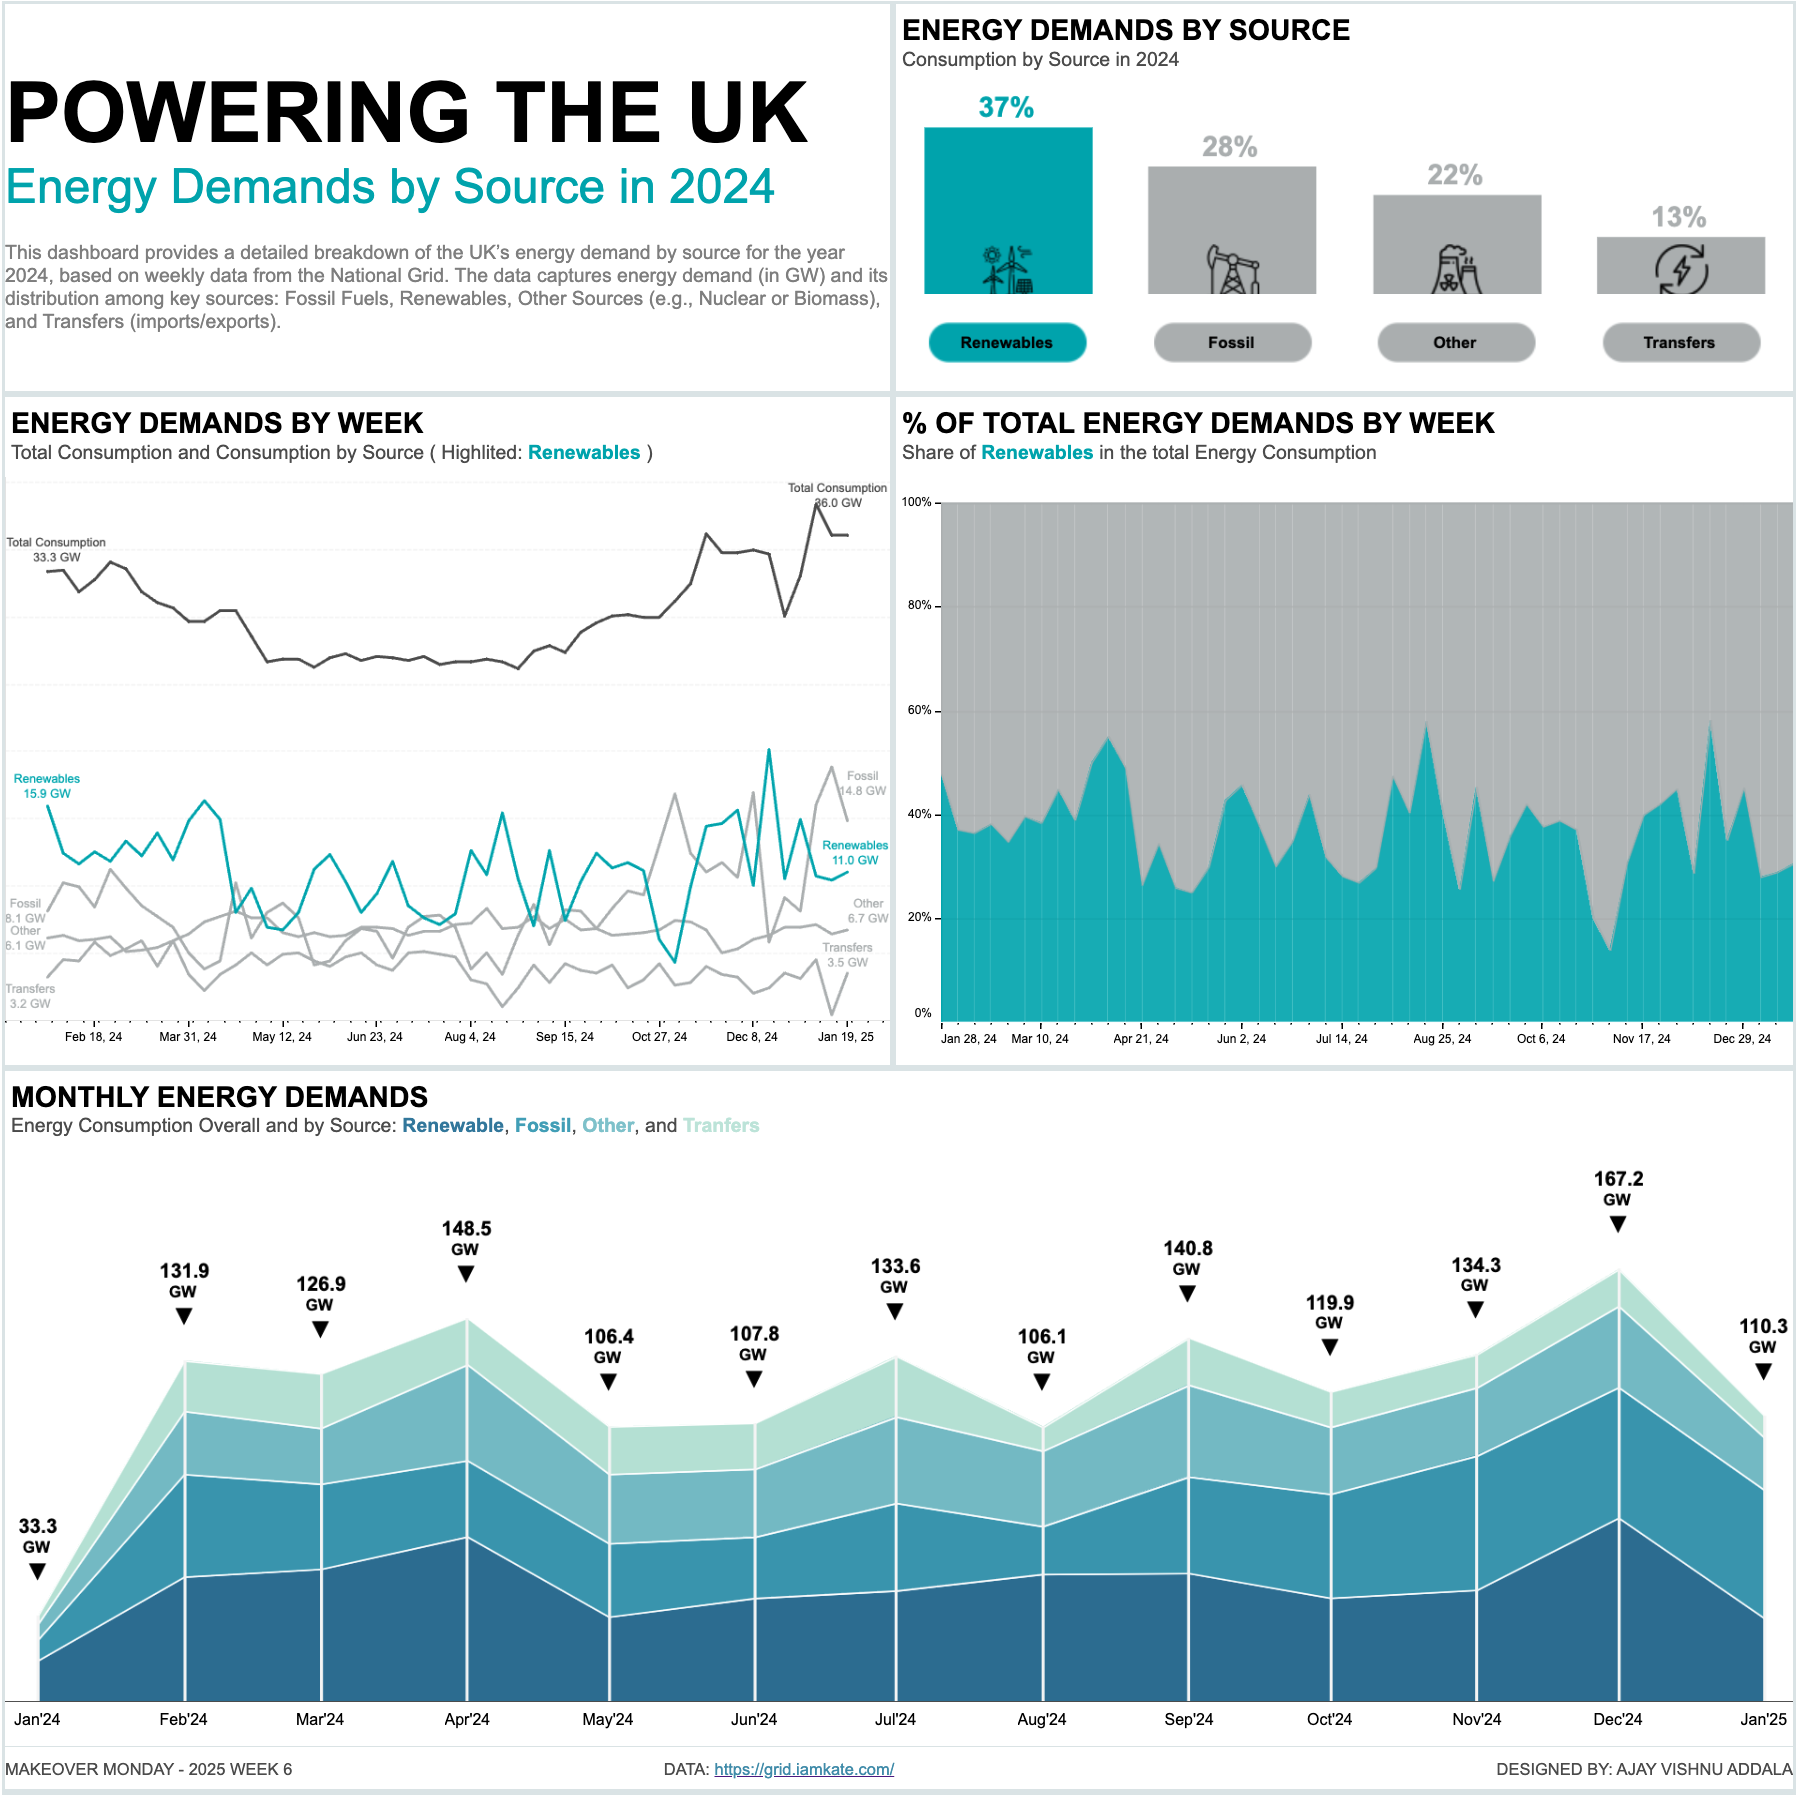

This screenshot's page, from the dashboard's own definition file:
{"tool":"tableau","page":{"name":"UK Energy Consumption","canvas":[1200,1200],"ordinal":0},"visuals":[{"type":"text","box":[2,2,594,264]},{"type":"worksheet","title":"Bars","mark":"Automatic","rows":["Pivot Field Values","Calculation_467459610482851846"],"cols":["Calculation_467459610446381056"],"box":[596,2,602,195]},{"type":"worksheet","title":"Buttons","mark":"Shape","cols":["Calculation_467459610446381056"],"box":[596,197,602,69]},{"type":"worksheet","title":"Line Chart","mark":"Line","rows":["Pivot Field Values","Calculation_467459610585341966"],"cols":["Date"],"box":[2,266,594,449]},{"type":"worksheet","title":"Area Chart - Selected","mark":"Area","cols":["Date"],"box":[596,266,602,449]},{"type":"worksheet","title":"Monthly Consumption","mark":"Area","rows":["Pivot Field Values","Pivot Field Values"],"cols":["Date"],"box":[2,715,1196,451]},{"type":"text","box":[2,1166,298,30]},{"type":"text","box":[300,1166,440,30]},{"type":"text","box":[740,1166,458,30]}]}

Visuals, with their boxes in screenshot pixels (x1, y1, x2, y2), scaled from the page's 1200x1200 canvas onto the 1796x1798 screenshot:
text: l=3, t=3, r=892, b=399
"Bars" worksheet: l=892, t=3, r=1793, b=295
"Buttons" worksheet (Shape marks): l=892, t=295, r=1793, b=399
"Line Chart" worksheet (Line marks): l=3, t=399, r=892, b=1071
"Area Chart - Selected" worksheet (Area marks): l=892, t=399, r=1793, b=1071
"Monthly Consumption" worksheet (Area marks): l=3, t=1071, r=1793, b=1747
text: l=3, t=1747, r=449, b=1792
text: l=449, t=1747, r=1108, b=1792
text: l=1108, t=1747, r=1793, b=1792
